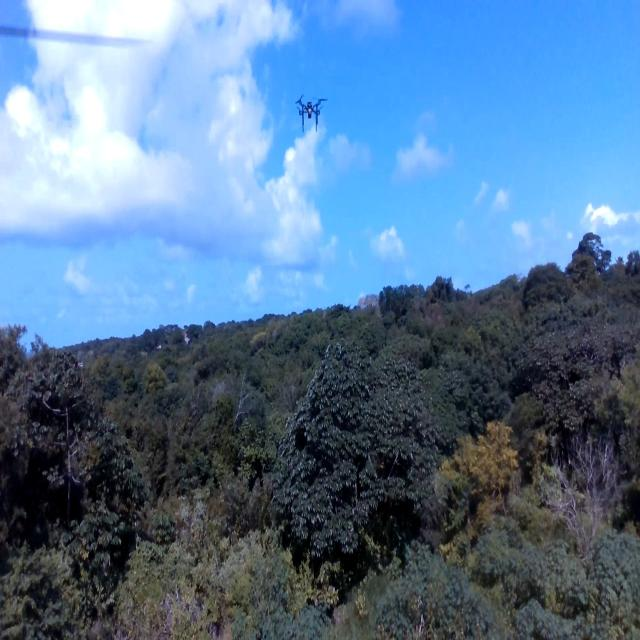-uav-: (291, 74, 339, 148)
